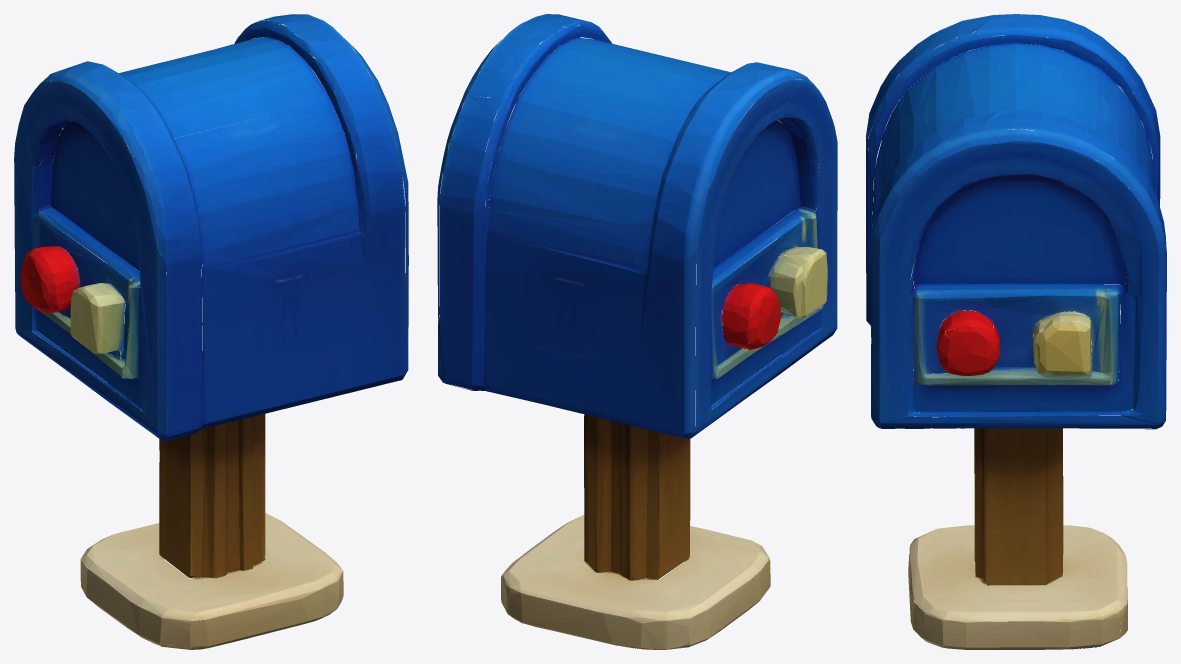
The model's file is mailbox-optimized.glb.
The picture shows the model from 3 angles, left to right: view 1: azimuth 30°, elevation 25°; view 2: azimuth 150°, elevation 25°; view 3: azimuth 270°, elevation 25°; orthographic projection.
Visible parts, largest first — view 1: geometry_0; view 2: geometry_0; view 3: geometry_0.
Boxes of the visible parts, x1,y1,x2,y2 form: geometry_0: (14,14,408,649); geometry_0: (437,14,837,649); geometry_0: (866,14,1166,649).
Bounding box in the file's own units: 0.6115 × 1 × 0.5107.
1 material, 1 textured.
